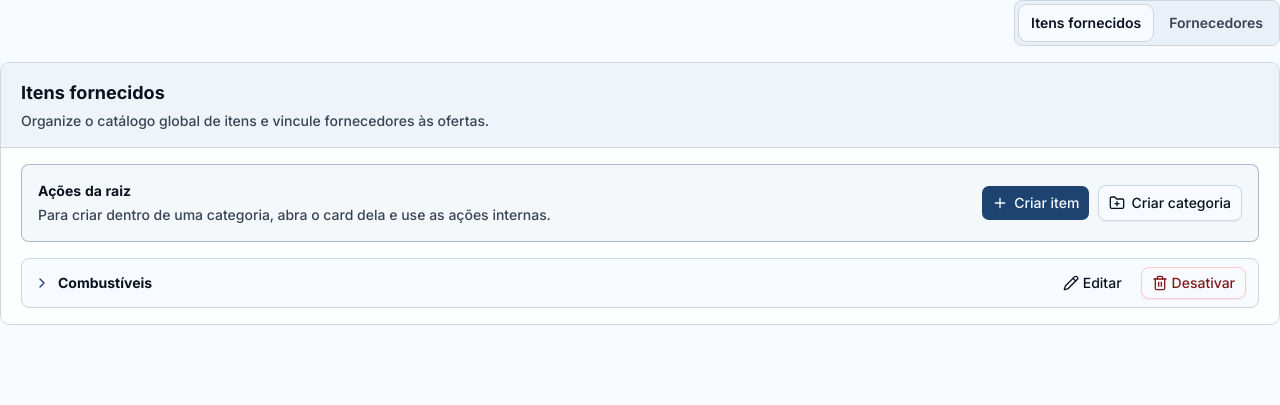
Test: FuelSuppliersTabs › opens on supplied items and keeps the supplier list in the second tab
The width and height of the screenshot is (1280, 405).
Expected: the text "Ações da raiz" is shown, top-left (38, 182), bottom-right (131, 199)
Expected: the text "Combustíveis" is shown, top-left (58, 273), bottom-right (152, 293)
Click the tab "Fornecedores".
click(1216, 23)  # box top-left (1157, 5), bottom-right (1275, 41)
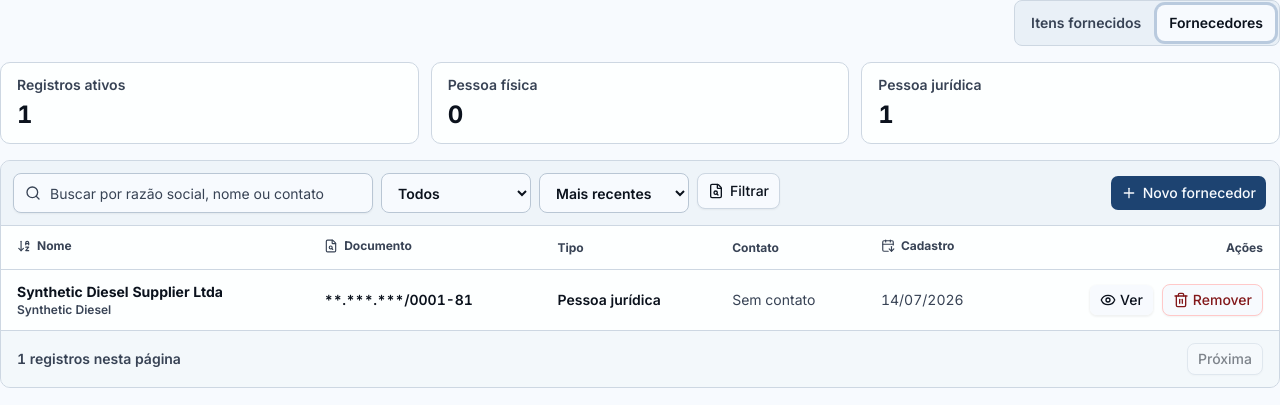
Expected: the button "Novo fornecedor" is shown, top-left (1110, 175), bottom-right (1267, 211)
Expected: the text "Synthetic Diesel Supplier Ltda" is shown, top-left (17, 283), bottom-right (223, 300)
